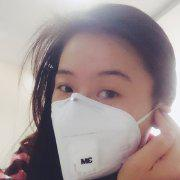OK: (50, 65, 155, 170)
